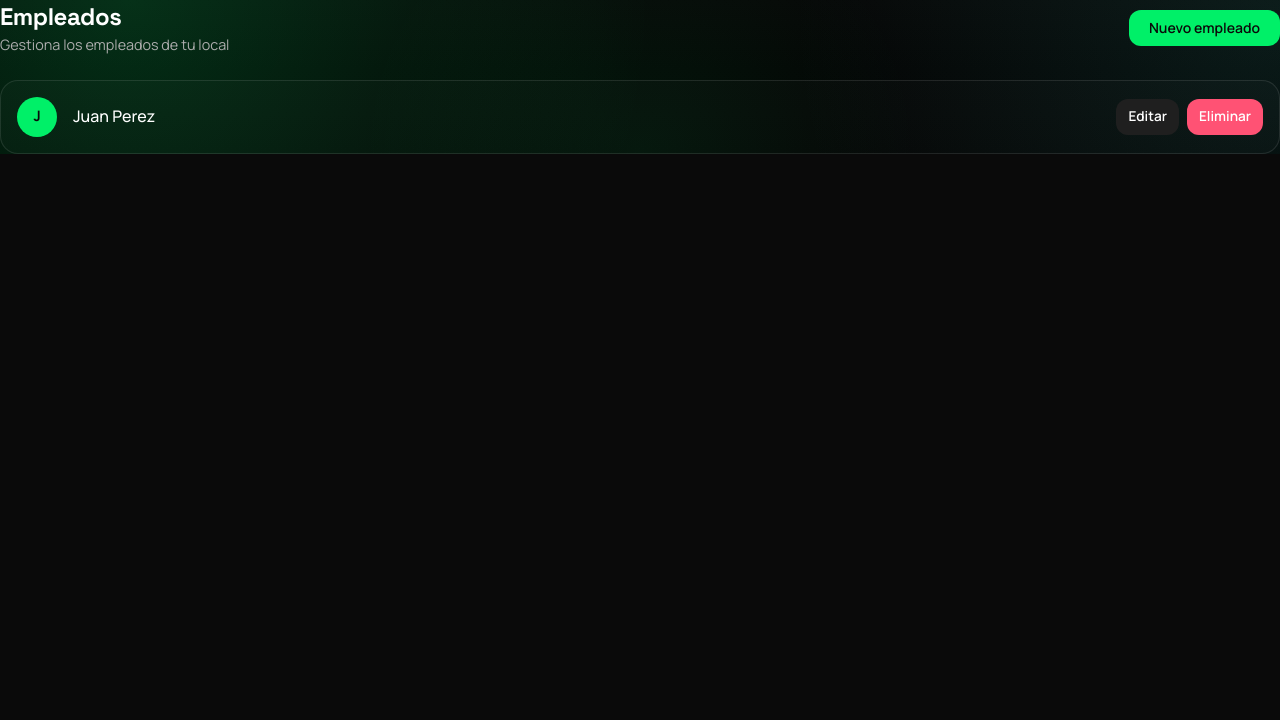
Test: EmployeesPage › shows the backend's 409 message when the employee has future appointments
Click the button "Eliminar" at (1225, 117), box [1187,99,1263,135]
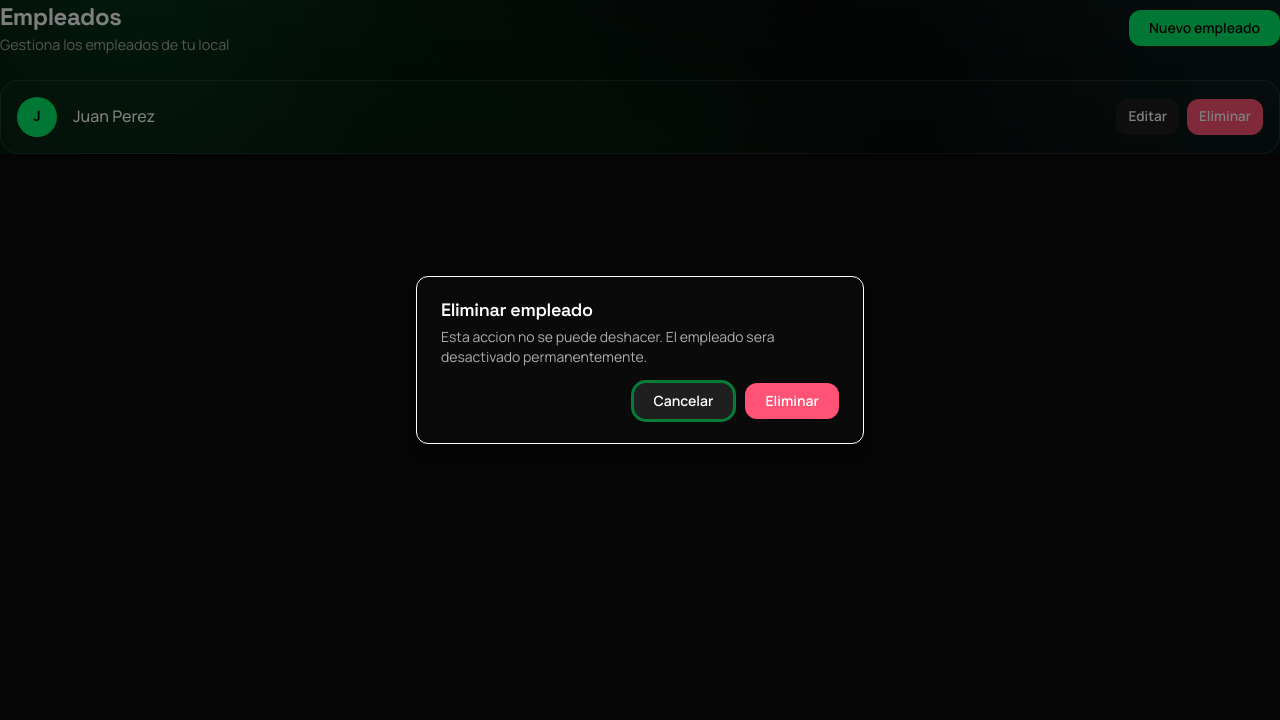
Click the button "Eliminar" at (792, 401), box [745,383,839,419]
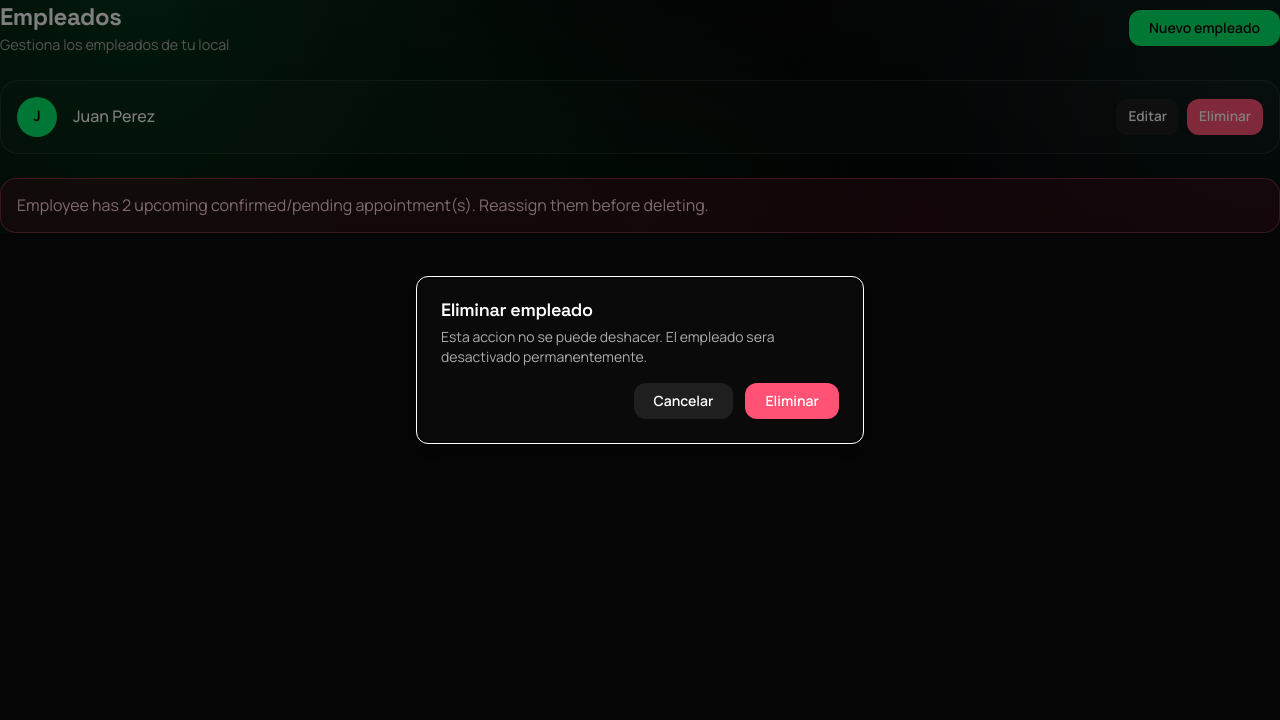
Expected: the text "Employee has 2 upcoming confirmed/pending appointment(s). Reassign them before deleting." is shown, [17,194,709,216]
